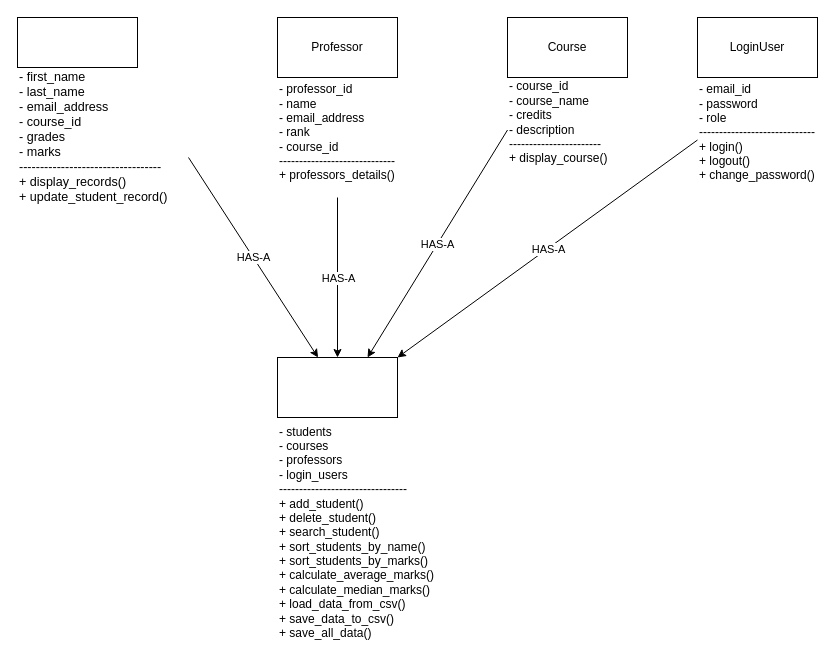
Some shapes in this 835 by 658 pixel diagram are drawn without their labels. Each missing label, with the centre of its shape:
"CheckMyGrade" belongs at point (337, 387).
"Student" belongs at point (77, 42).
